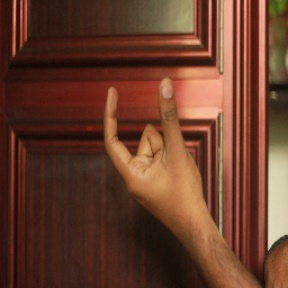U: (98, 70, 198, 203)
